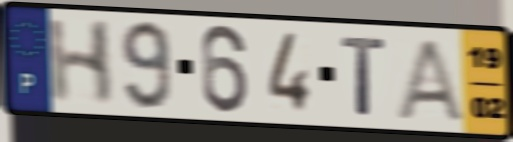4: (266, 30, 315, 116)
6: (199, 23, 249, 116)
9: (118, 17, 175, 114)
A: (392, 36, 470, 125)
H: (45, 17, 115, 107)
T: (338, 33, 390, 119)
